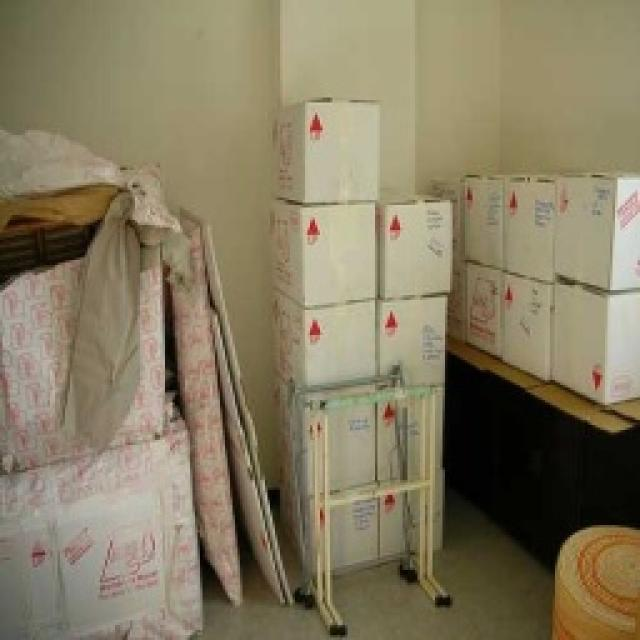box: (266, 197, 380, 308), (547, 280, 640, 405), (273, 93, 380, 201), (263, 290, 384, 380), (287, 382, 384, 492), (555, 170, 640, 292), (272, 484, 380, 574), (379, 183, 455, 300), (381, 296, 454, 390), (504, 168, 570, 270), (507, 274, 567, 383), (459, 160, 516, 274), (381, 390, 448, 483), (380, 484, 453, 556), (457, 258, 505, 360)
